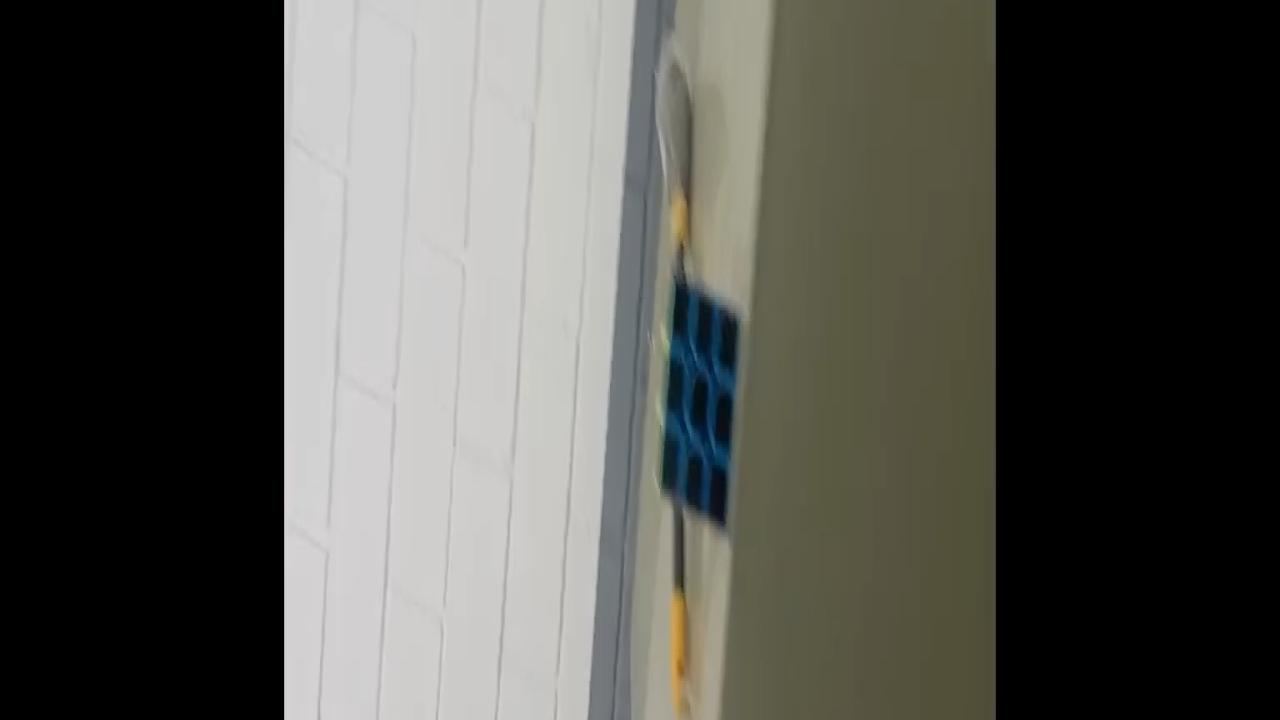Cube: (652, 269, 744, 539)
